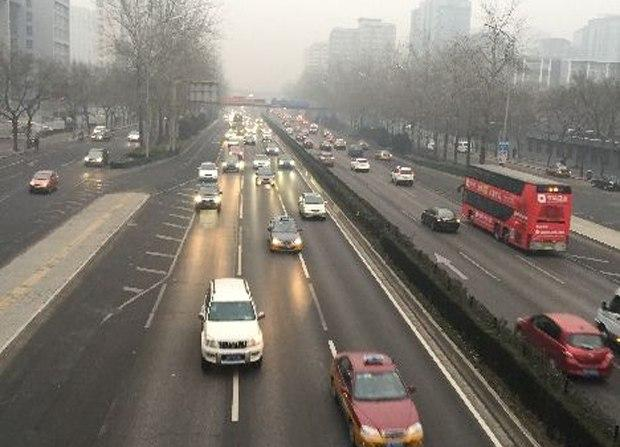bus: (455, 162, 574, 254)
car: (328, 351, 424, 446), (511, 310, 613, 382), (197, 277, 265, 371), (594, 289, 620, 350), (266, 215, 305, 254), (421, 206, 460, 233), (297, 192, 327, 221), (194, 186, 223, 213), (29, 170, 59, 193), (390, 165, 414, 187), (590, 172, 617, 191), (196, 162, 220, 183), (84, 148, 109, 168), (254, 166, 277, 187), (545, 160, 573, 177), (220, 155, 241, 174), (251, 153, 272, 170), (350, 157, 370, 173), (277, 154, 296, 170), (317, 151, 335, 167), (345, 144, 364, 159), (453, 139, 473, 153), (373, 149, 393, 162), (90, 130, 111, 142), (264, 141, 281, 155), (228, 145, 243, 160), (423, 139, 440, 151), (242, 134, 257, 147), (127, 130, 143, 142), (333, 138, 347, 151), (319, 141, 332, 153)
